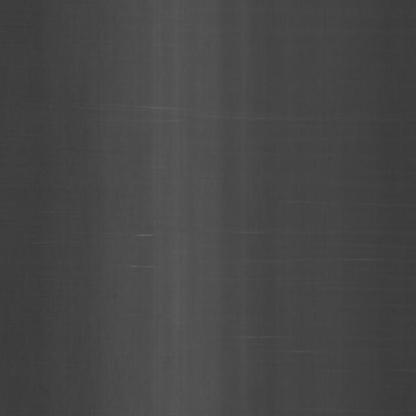waist_folding: (134, 48, 259, 282)
